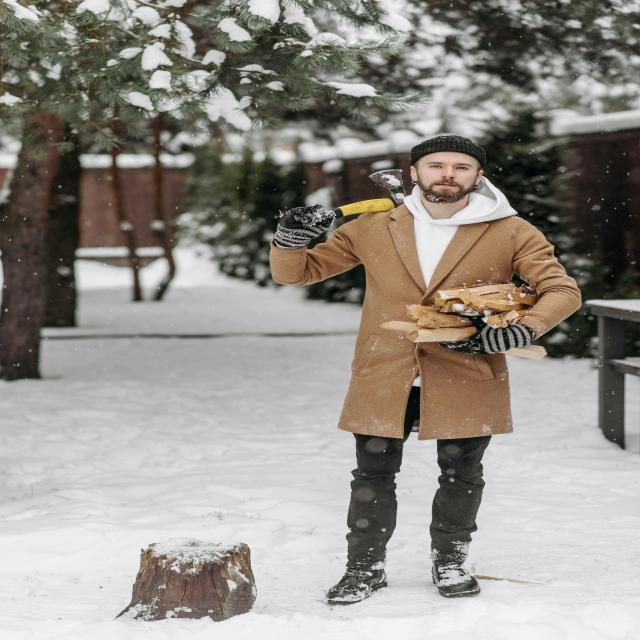Axe: (334, 169, 405, 218)
